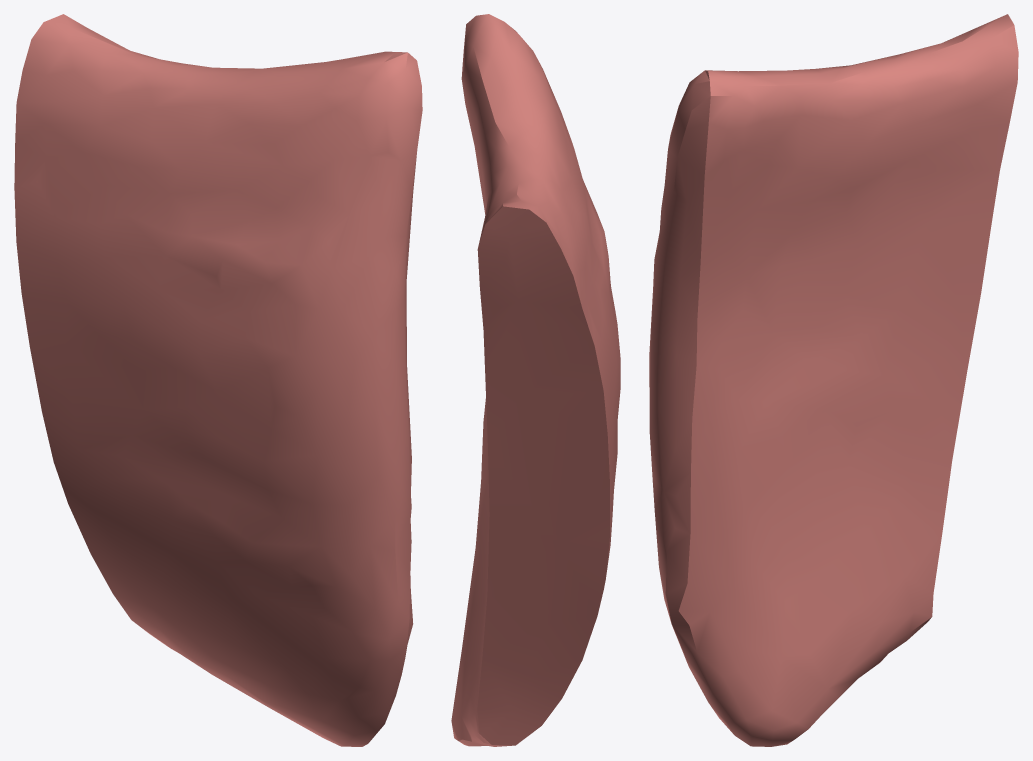
File: fma54480-f_mm2212.glb
The picture shows the model from 3 angles, left to right: view 1: azimuth 30°, elevation 25°; view 2: azimuth 150°, elevation 25°; view 3: azimuth 270°, elevation 25°; orthographic projection. The views are drawn at different scales.
Visible parts, largest first — view 1: FMA54480-F_MM2212; view 2: FMA54480-F_MM2212; view 3: FMA54480-F_MM2212.
Boxes of the visible parts, x1,y1,x2,y2 form: FMA54480-F_MM2212: (14,14,422,746); FMA54480-F_MM2212: (451,14,620,746); FMA54480-F_MM2212: (649,14,1018,746).
Size of the model in its own units: 0.00346 by 0.00861 by 0.00421.
